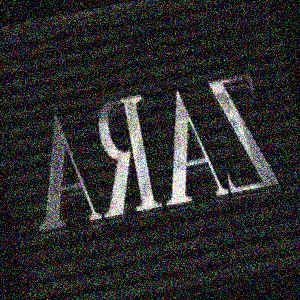zara: (271, 30, 285, 89)
